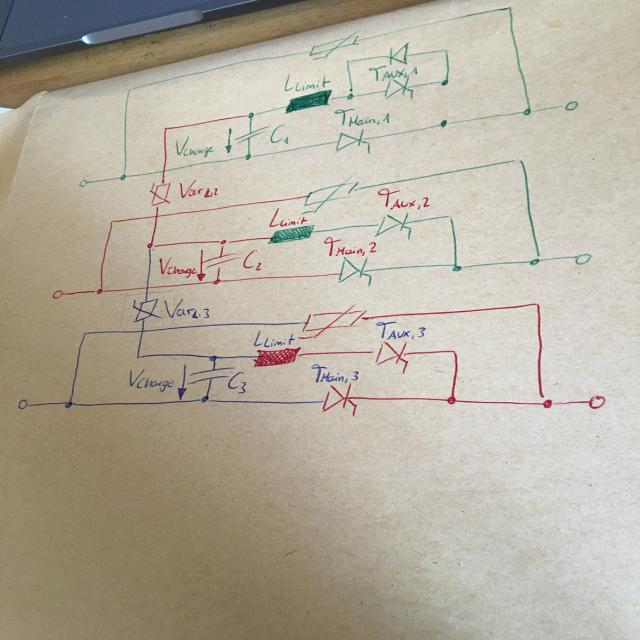capacitor: (186, 365, 235, 385), (233, 125, 269, 144), (202, 252, 239, 268)
crossover: (152, 213, 160, 219), (138, 328, 146, 334), (160, 168, 168, 173), (144, 284, 150, 290)
diode: (387, 41, 408, 65)
inductor: (284, 88, 332, 114), (252, 346, 301, 368), (266, 224, 314, 244)
junction: (538, 394, 554, 408), (528, 254, 542, 266), (449, 261, 463, 272), (445, 394, 457, 405), (512, 157, 526, 166), (522, 106, 534, 116), (217, 238, 231, 246), (438, 77, 450, 86), (118, 171, 128, 181), (93, 286, 105, 294), (146, 241, 158, 249), (210, 277, 222, 285), (451, 347, 461, 356), (199, 394, 210, 402), (63, 400, 74, 408), (345, 92, 354, 101), (245, 110, 255, 118), (208, 354, 219, 361), (244, 152, 252, 161), (532, 300, 542, 307), (504, 4, 514, 11), (444, 213, 454, 220), (126, 86, 135, 93), (344, 57, 353, 64), (134, 353, 142, 359), (441, 47, 449, 53), (108, 218, 116, 224), (162, 124, 168, 130), (81, 330, 88, 335)
terminal: (586, 394, 606, 410), (572, 252, 592, 265), (560, 100, 578, 111), (16, 398, 29, 410), (51, 289, 63, 299), (78, 178, 89, 187)
text: (376, 187, 431, 210), (162, 296, 212, 321), (126, 367, 174, 393), (333, 107, 391, 127), (322, 235, 377, 256), (309, 362, 359, 383), (374, 320, 426, 340), (157, 254, 198, 279), (173, 135, 215, 157), (282, 72, 330, 91), (368, 64, 418, 82), (176, 179, 219, 198), (267, 206, 307, 226), (251, 329, 295, 347), (241, 248, 264, 271), (226, 370, 247, 394), (269, 123, 291, 145)
thyristor: (320, 382, 358, 412), (371, 340, 409, 366), (337, 256, 372, 282), (375, 212, 412, 236), (335, 128, 371, 151), (383, 77, 414, 98)
